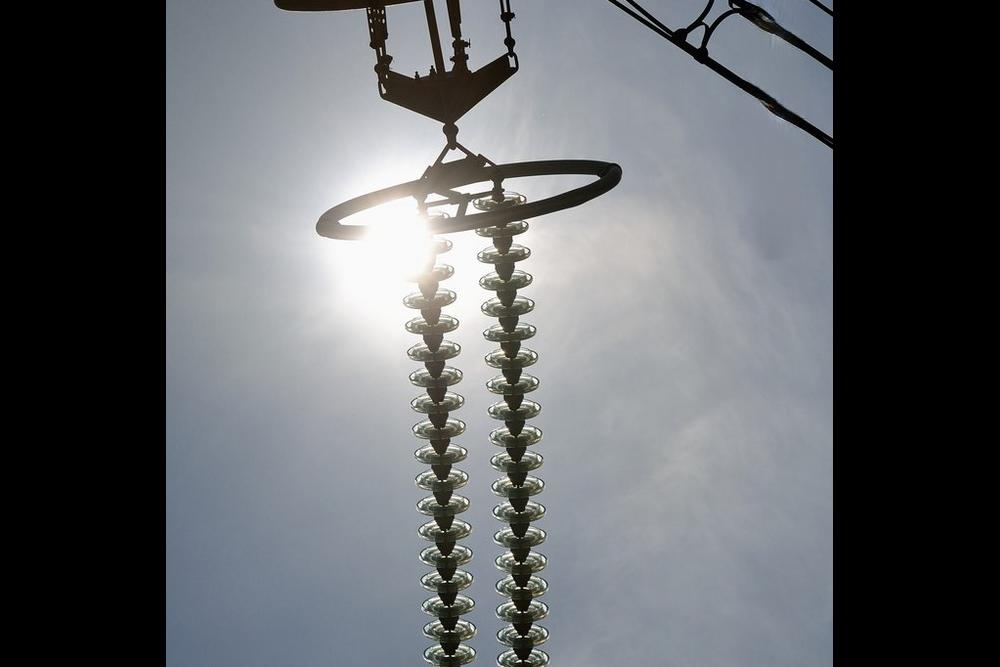insulator: (390, 202, 482, 667), (472, 189, 558, 667)
